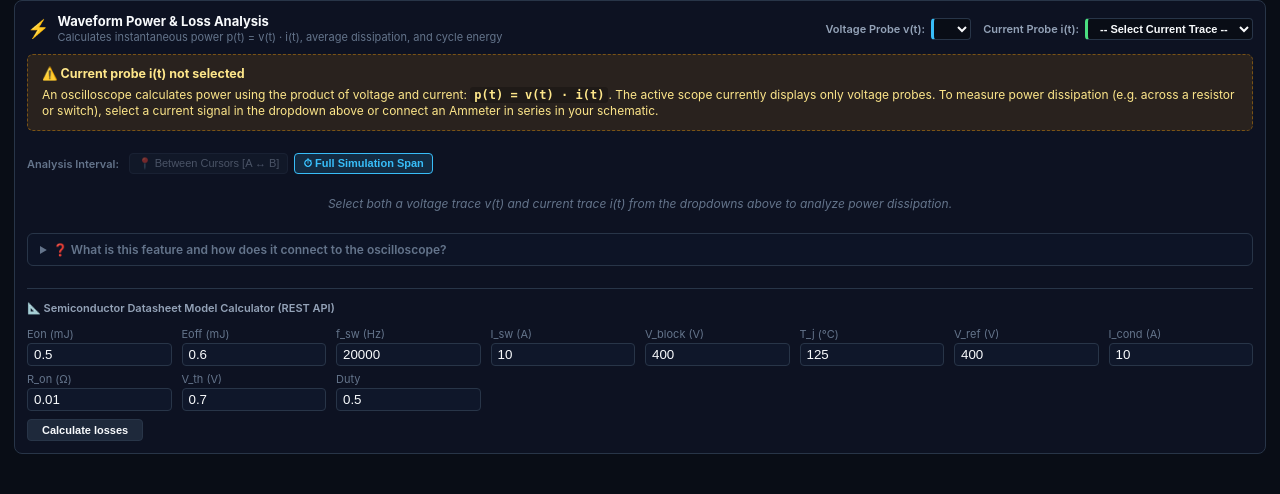
Scenario: surfaces server errors with field details
Click the button "Calculate losses" at point(85, 430), box [27,419,143,441]
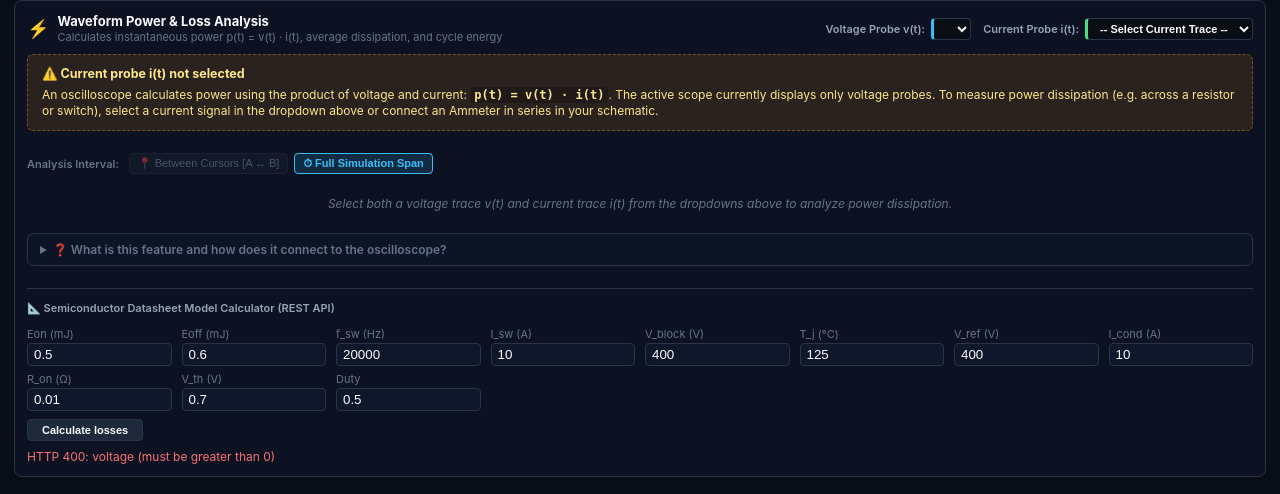
Now the message shows "HTTP 400", box [27,449,275,464]
